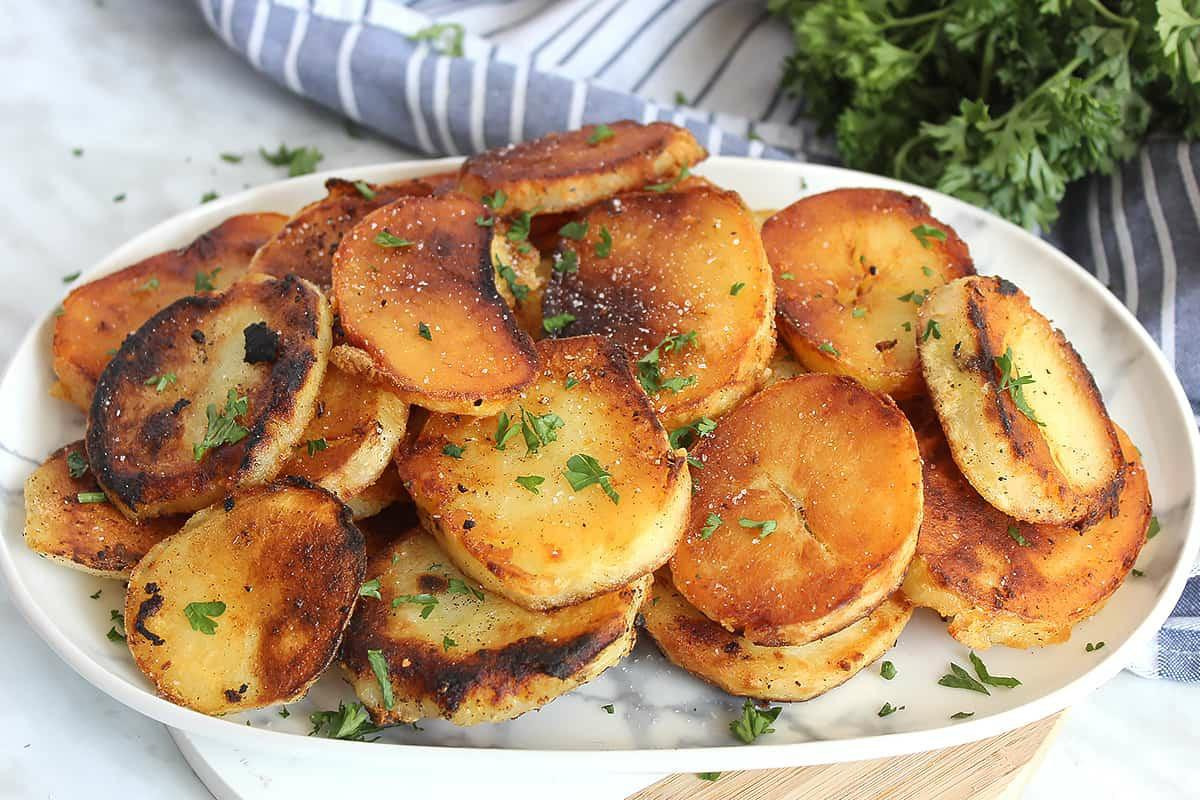AlooMasala: (18, 116, 1151, 716)
